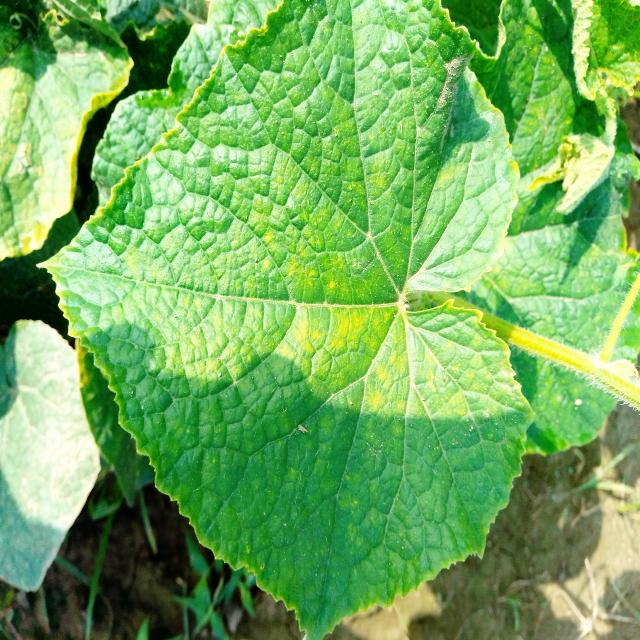Fresh-Leaf: (36, 0, 534, 640)
